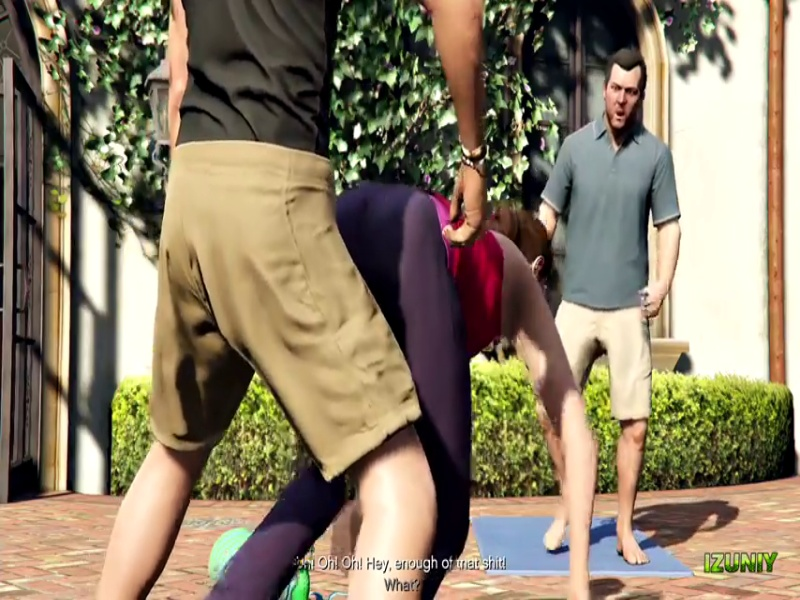human: (539, 39, 683, 591)
